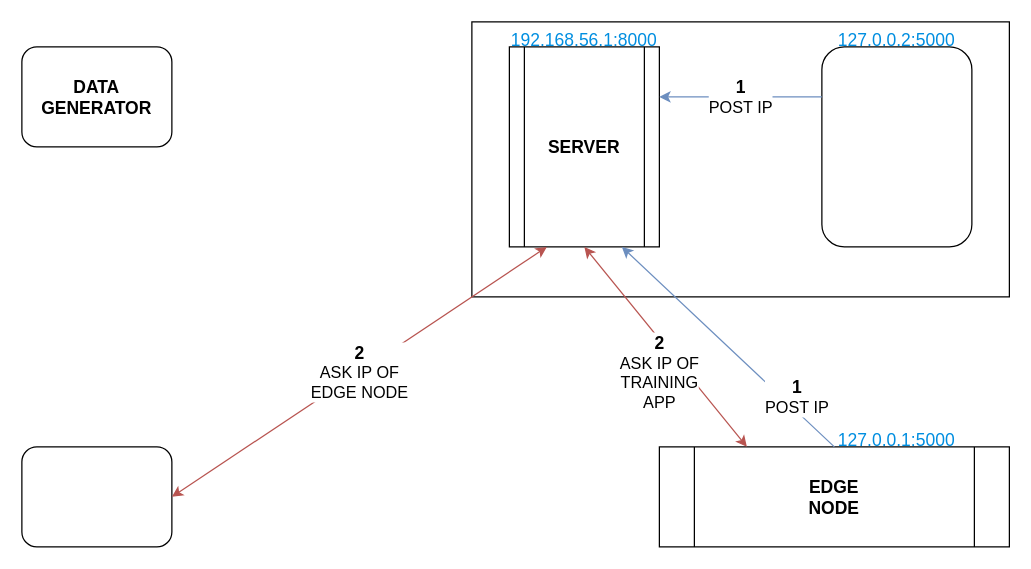
Image size: 1031x569. Some labels were removed from this diagram. The shapes that lost their labels are listed below. From the top down, each one's centre as x and y in pixels, then its label:
At point (896, 146): "TRAINING APP".
At point (96, 496): "SENSOR".
